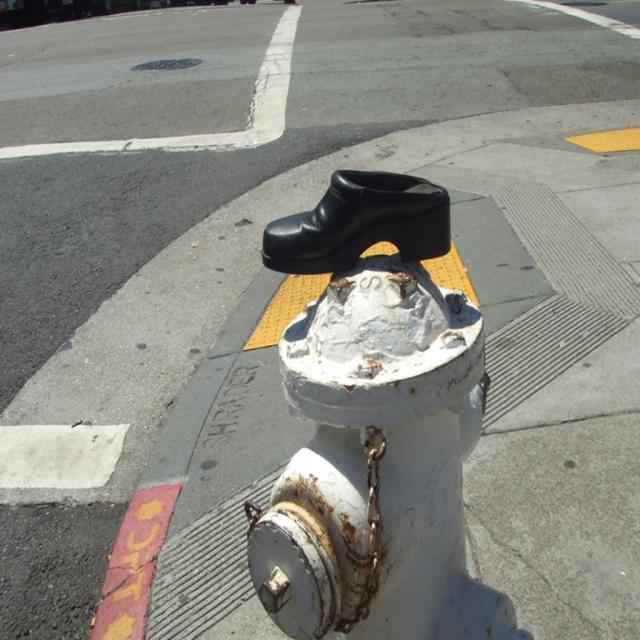fire_hydrant: (245, 253, 536, 639)
